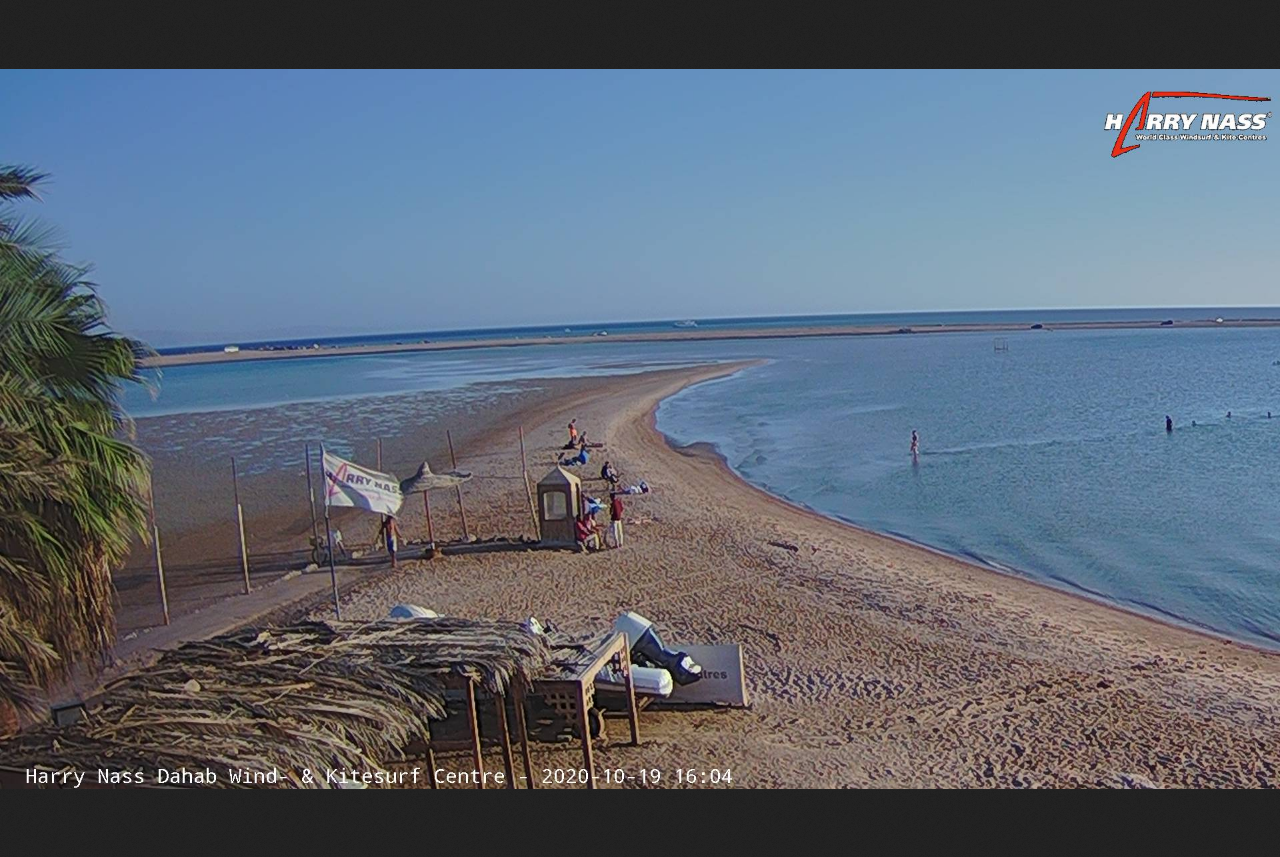yes: (325, 454, 403, 515)
